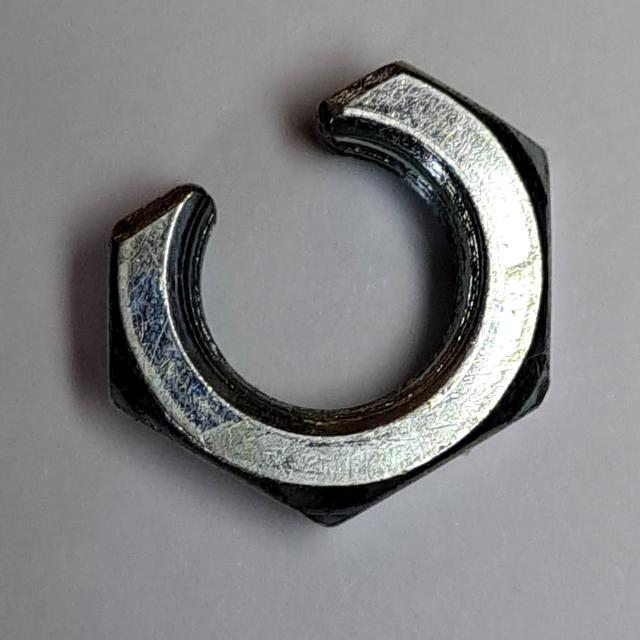Fracture: (96, 53, 569, 542)
